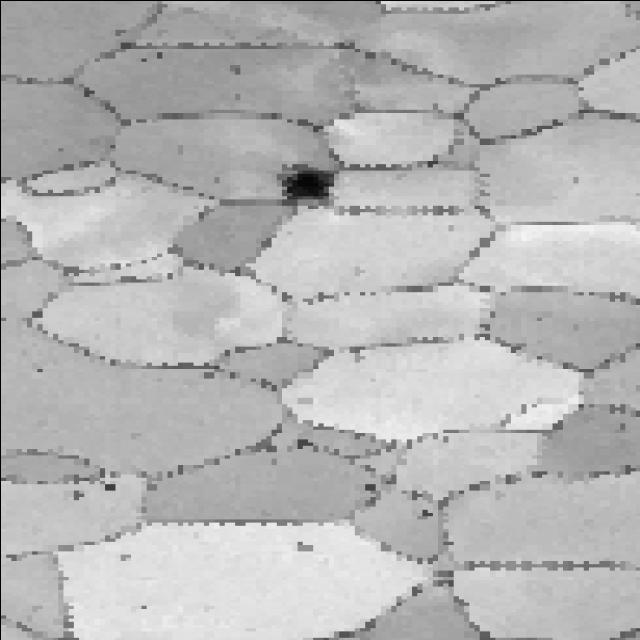good_void: (270, 157, 343, 204), (289, 532, 317, 553), (293, 434, 316, 453), (415, 504, 435, 519), (223, 61, 244, 74), (113, 548, 132, 562), (65, 488, 83, 501), (359, 480, 380, 491), (102, 480, 120, 492), (152, 48, 168, 59)
